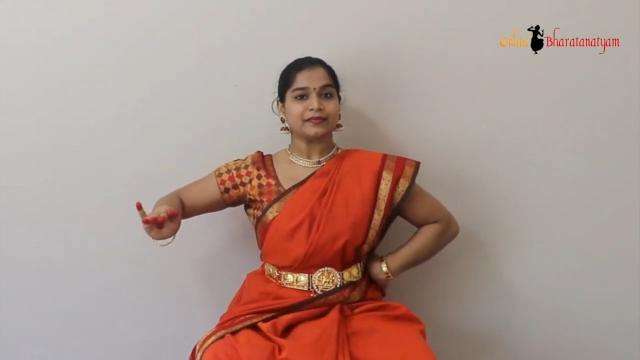Hamsapaksha: (128, 189, 196, 261)
